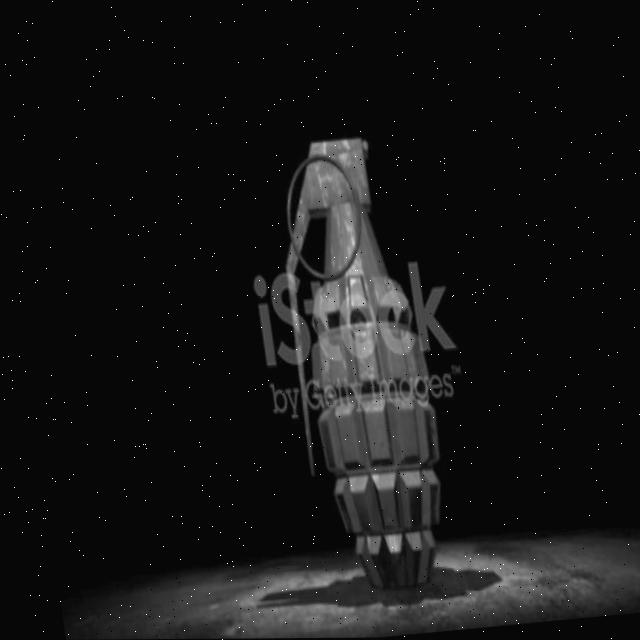grenade: (257, 128, 452, 600)
